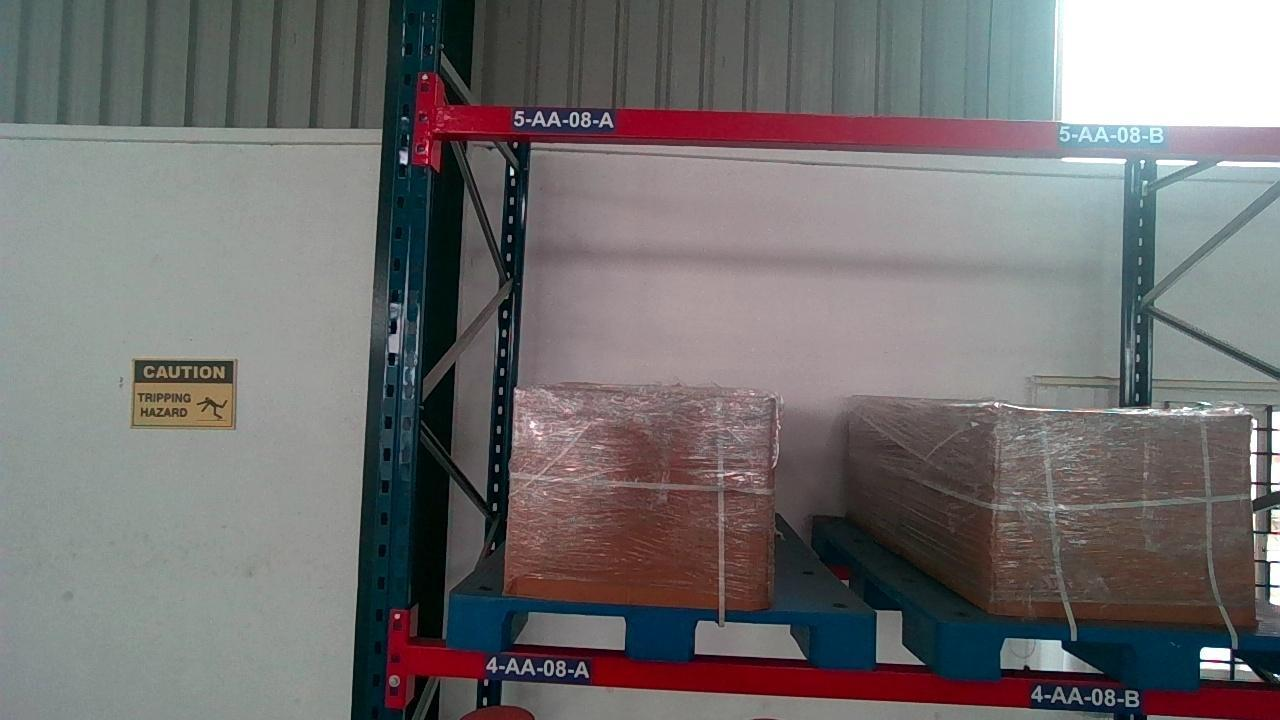h_rack: (424, 643, 1280, 718), (437, 102, 1280, 164)
small_pallet: (447, 602, 877, 661), (949, 626, 1276, 684)
